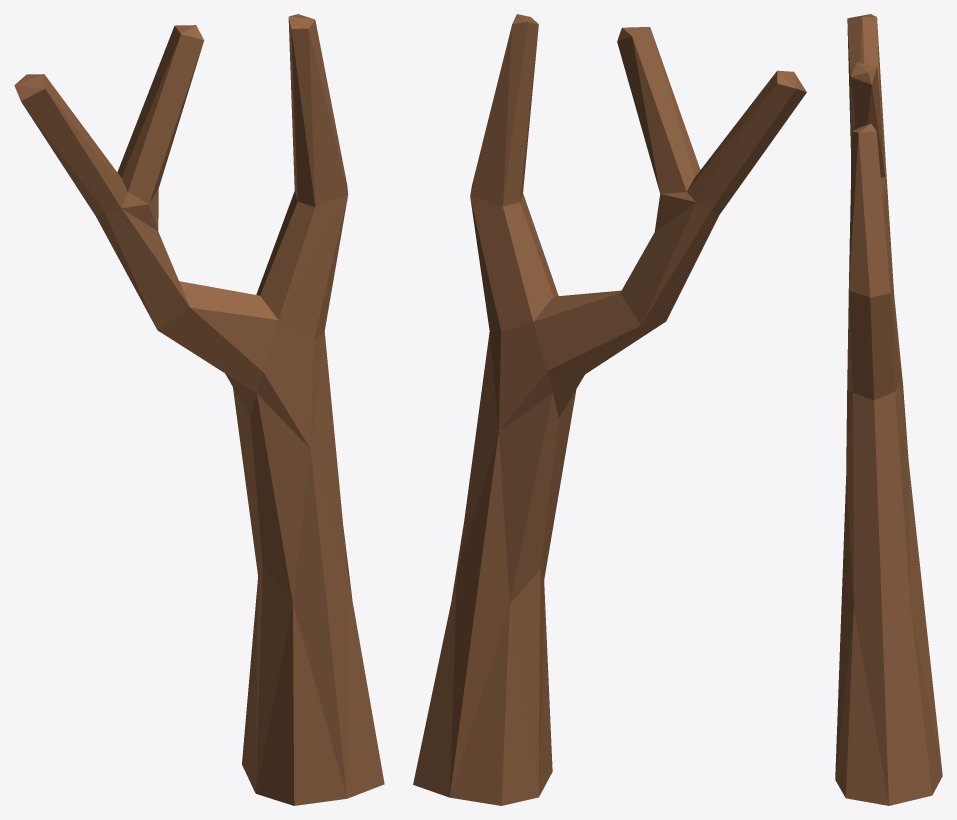
The model's file is tree-dead-trunk-7-044.glb.
3 views of the same model, side by side, from view 1: azimuth 30°, elevation 25°; view 2: azimuth 150°, elevation 25°; view 3: azimuth 270°, elevation 25° (orthographic). The views are drawn at different scales.
Visible parts, largest first — view 1: TREE 7.006_519; view 2: TREE 7.006_519; view 3: TREE 7.006_519.
Boxes of the visible parts, x1,y1,x2,y2 form: TREE 7.006_519: [14, 14, 384, 805]; TREE 7.006_519: [413, 14, 806, 805]; TREE 7.006_519: [835, 14, 942, 805].
Size of the model in its own units: 0.4559 by 0.9351 by 0.1383.
